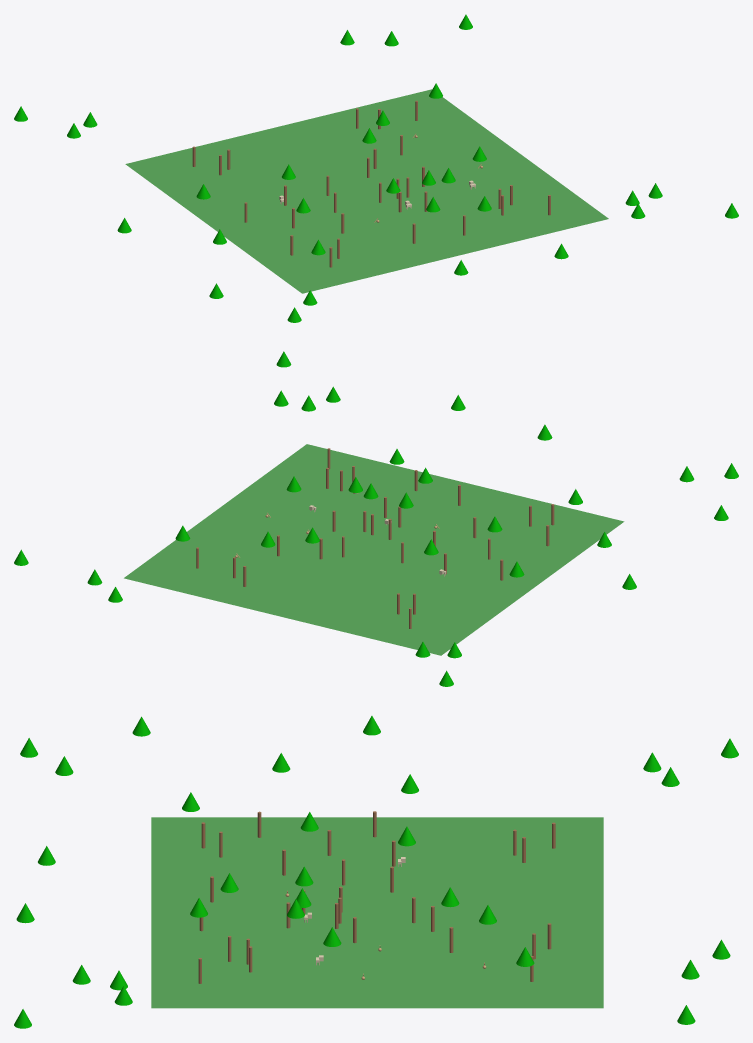
The model's file is thunderstorm.glb.
3 renders of one model, top to bottom at view 1: azimuth 30°, elevation 25°; view 2: azimuth 150°, elevation 25°; view 3: azimuth 270°, elevation 25°, orthographic. The views are drawn at different scales.
Visible parts, largest first — view 1: Ground; view 2: Ground; view 3: Ground.
Boxes of the visible parts, <box> form: Ground: <box>125,89,608,293</box>; Ground: <box>124,444,624,655</box>; Ground: <box>151,817,603,1008</box>.
Size of the model in its own units: 78.68 by 5.5 by 80.12.
